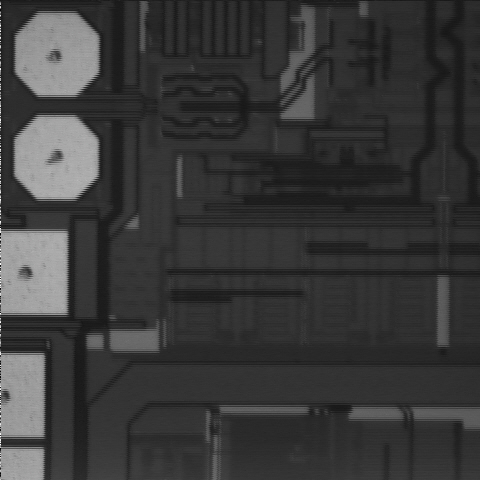pad: (15, 117, 98, 199), (16, 15, 98, 95)
